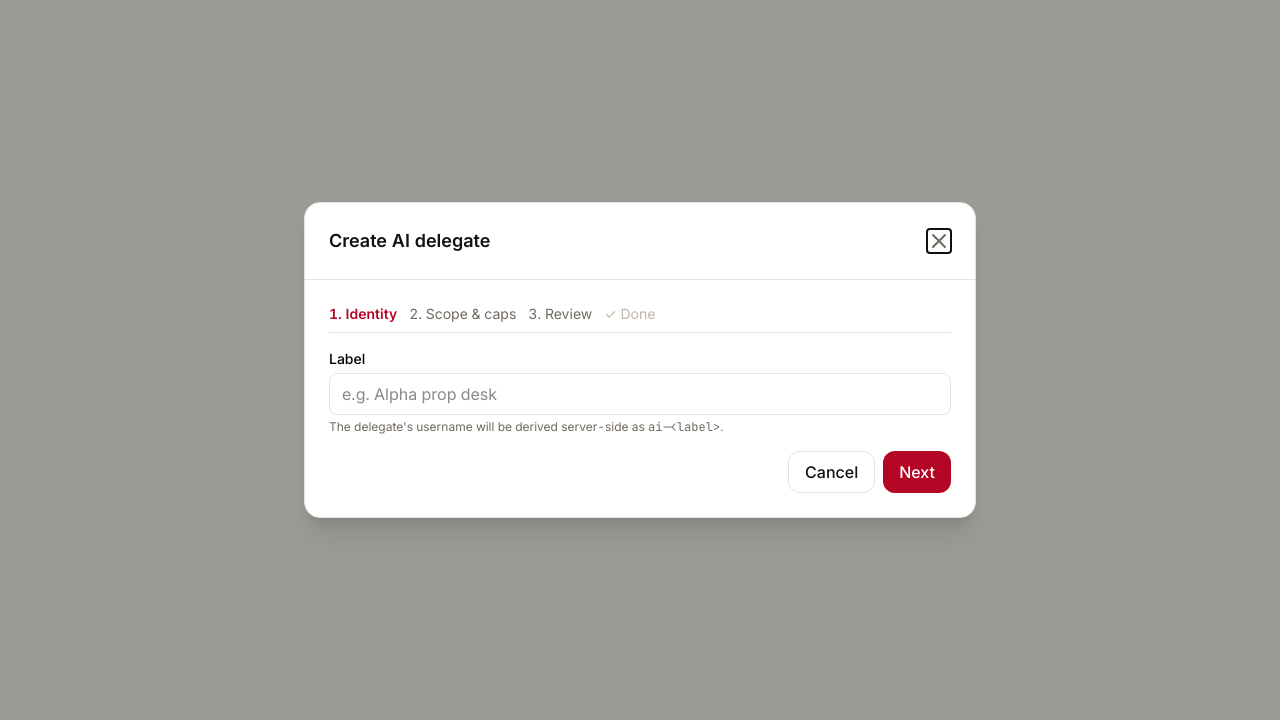
Test case: CreateDelegateWizard › shows caps error for invalid JSON and stays on scope step
Type "alpha" into the field labelled "Label" at [640, 394], box [329,373,951,415]
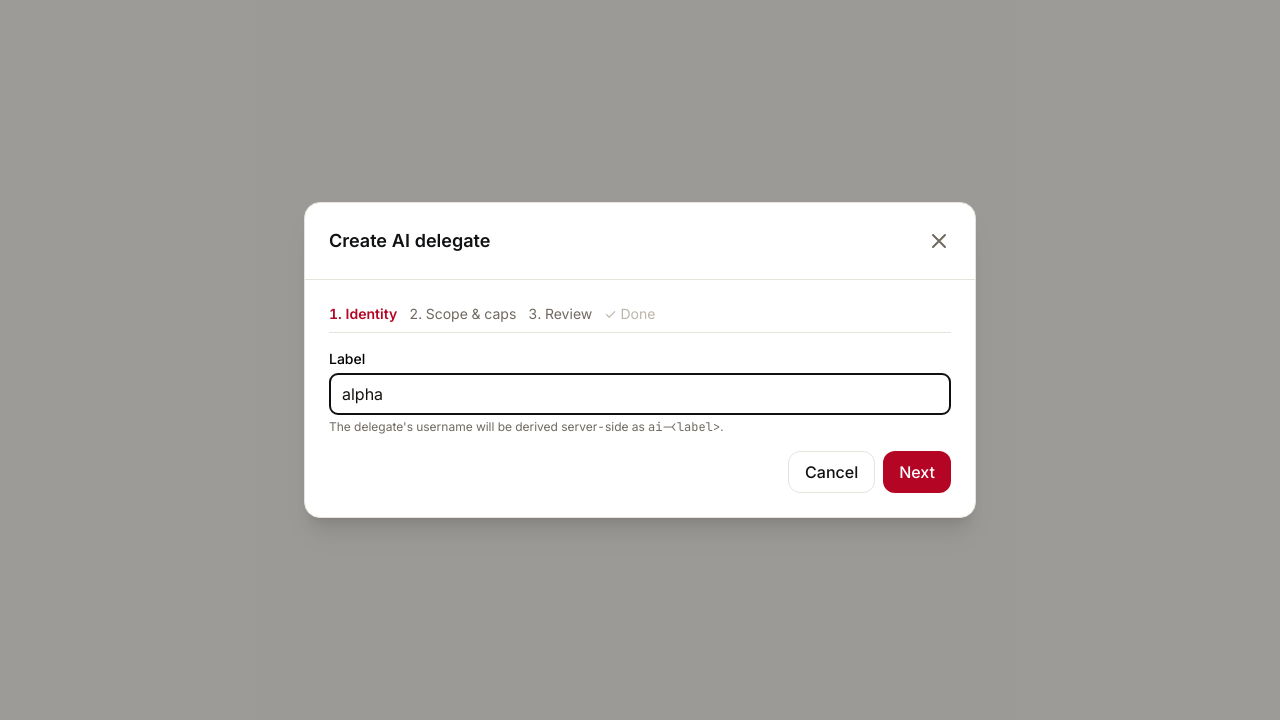
Click the button "Next" at [917, 472], box [883,451,951,493]
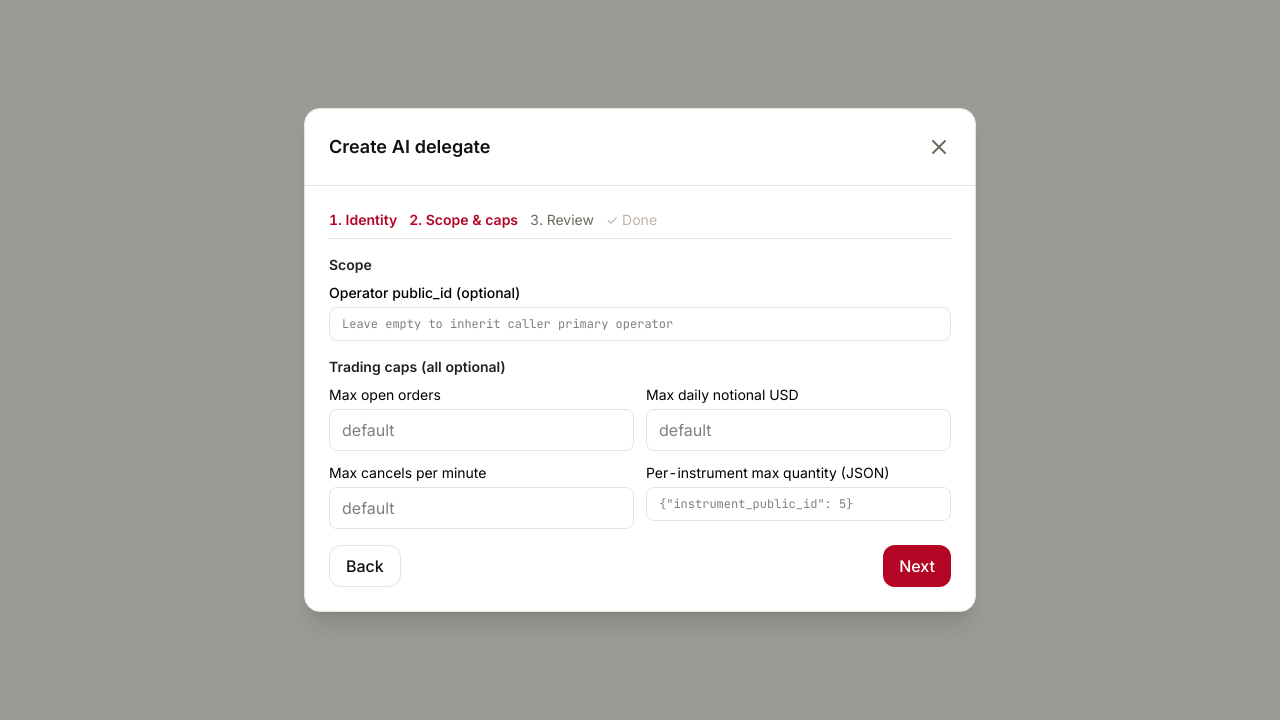
Type "not-json" into the field labelled "Per-instrument max quantity (JSON)" at [798, 504], box [646,487,951,521]
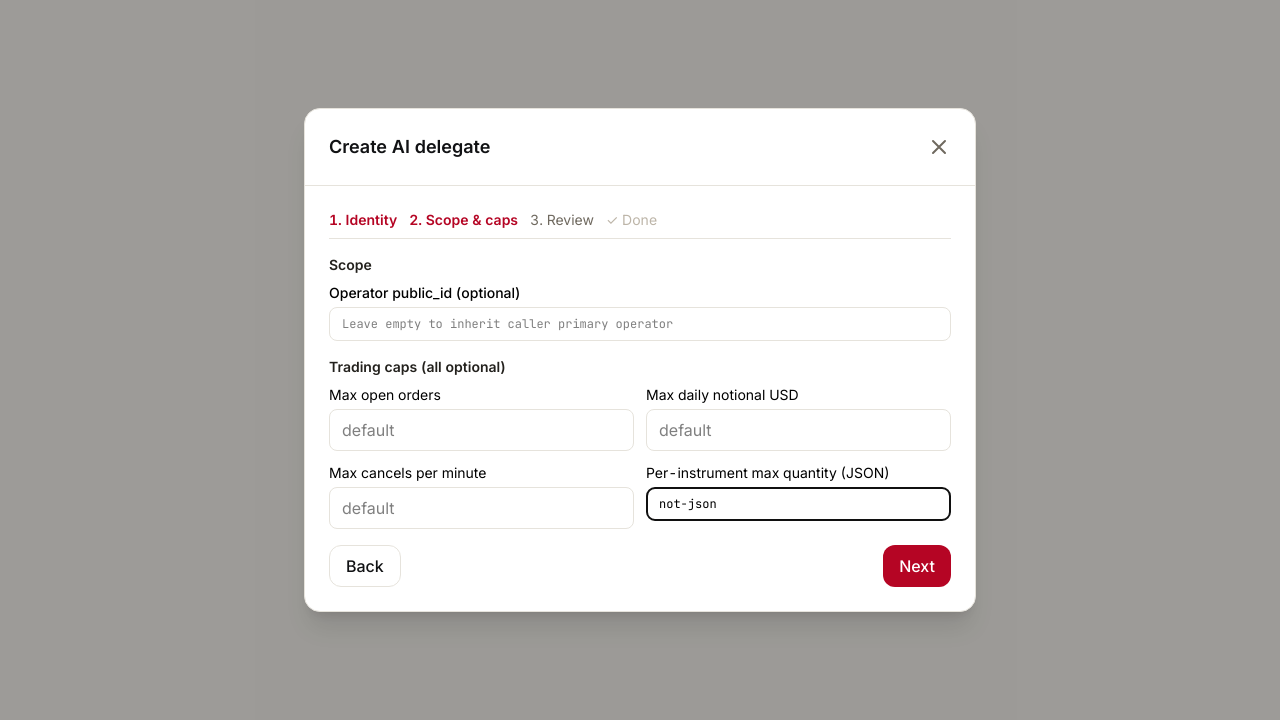
Click the button "Next" at [917, 566], box [883,545,951,587]
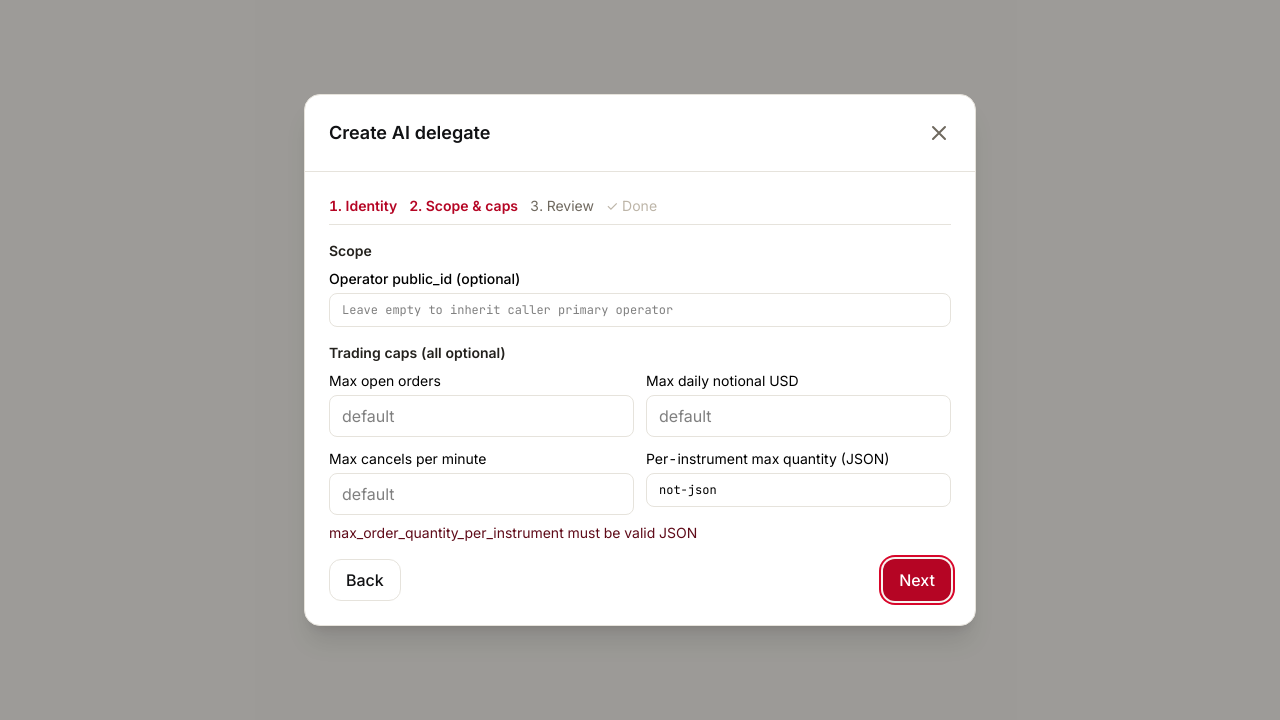
Check: the message shows "valid JSON", box [329,524,697,541]
